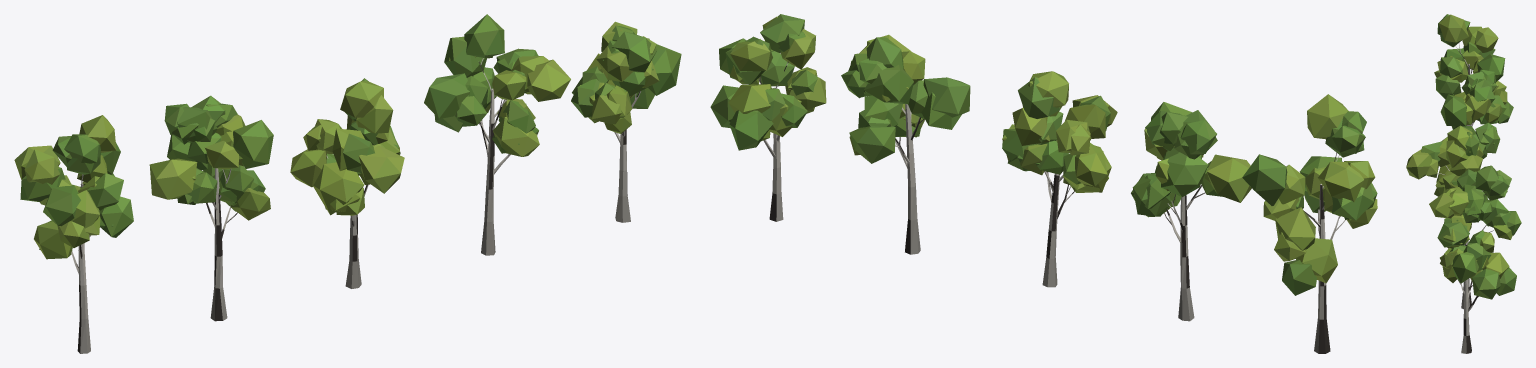
Rendered from ranvora_v2_birch.glb.
3 views of the same model, side by side, from view 1: azimuth 30°, elevation 25°; view 2: azimuth 150°, elevation 25°; view 3: azimuth 270°, elevation 25° (orthographic). The views are drawn at different scales.
Visible parts, largest first — view 1: birch_D_mesh, birch_B_mesh, birch_A_mesh, birch_C_mesh, birch_E_mesh; view 2: birch_A_mesh, birch_E_mesh, birch_D_mesh, birch_C_mesh, birch_B_mesh; view 3: birch_E_mesh, birch_D_mesh, birch_A_mesh, birch_B_mesh, birch_C_mesh.
Part boxes in pixels (x1,y1,x2,y2): birch_D_mesh: [424, 14, 570, 255]; birch_B_mesh: [149, 95, 273, 321]; birch_A_mesh: [14, 115, 133, 353]; birch_C_mesh: [290, 78, 404, 288]; birch_E_mesh: [571, 21, 681, 222]; birch_A_mesh: [1242, 94, 1377, 353]; birch_E_mesh: [710, 14, 826, 221]; birch_D_mesh: [841, 34, 970, 254]; birch_C_mesh: [1002, 71, 1117, 287]; birch_B_mesh: [1131, 102, 1251, 321]; birch_E_mesh: [1437, 222, 1516, 353]; birch_D_mesh: [1429, 165, 1521, 309]; birch_A_mesh: [1434, 14, 1513, 125]; birch_B_mesh: [1440, 69, 1506, 158]; birch_C_mesh: [1406, 125, 1483, 196].
Size of the model in its own units: 24.15 by 8.66 by 5.54.
